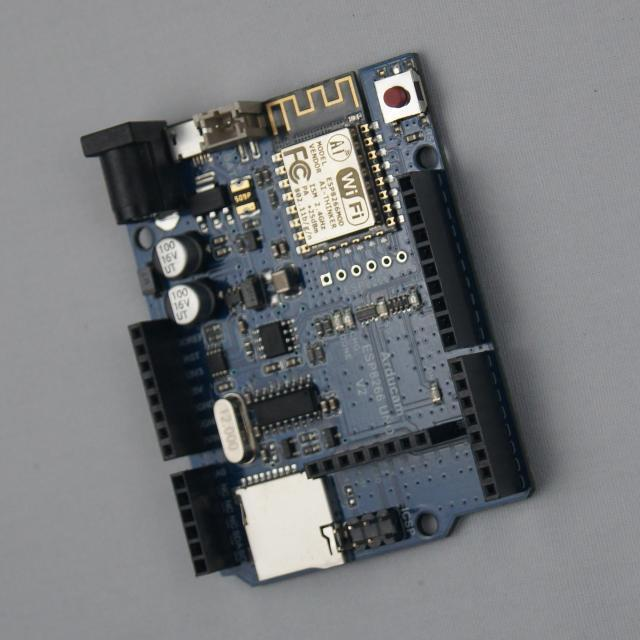Arduino Uno Camera Shield: (82, 54, 532, 585)
